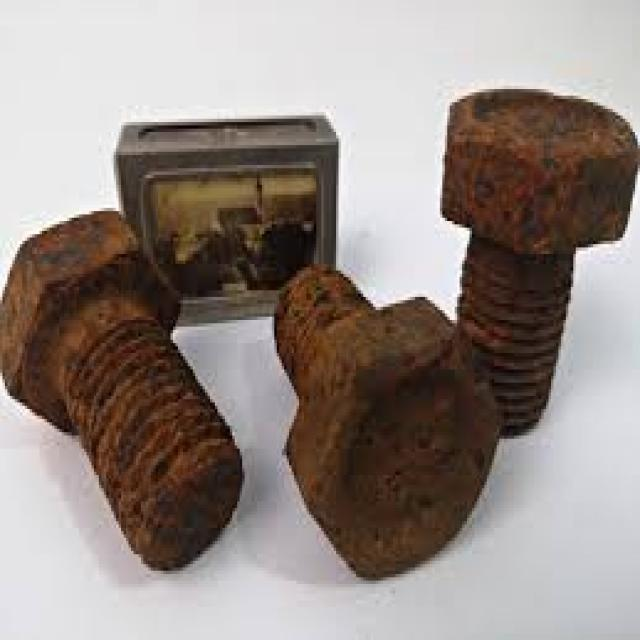Rusty bolt: (285, 294, 502, 584), (1, 208, 182, 434), (441, 91, 639, 294)
